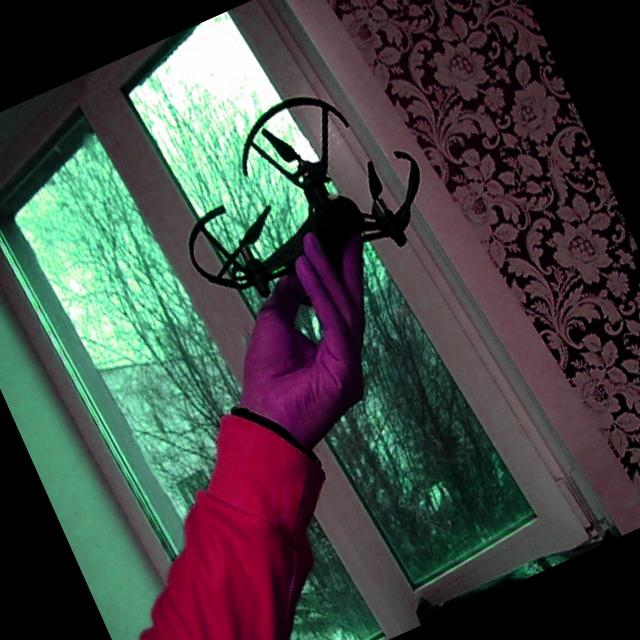drone: (144, 51, 476, 378)
